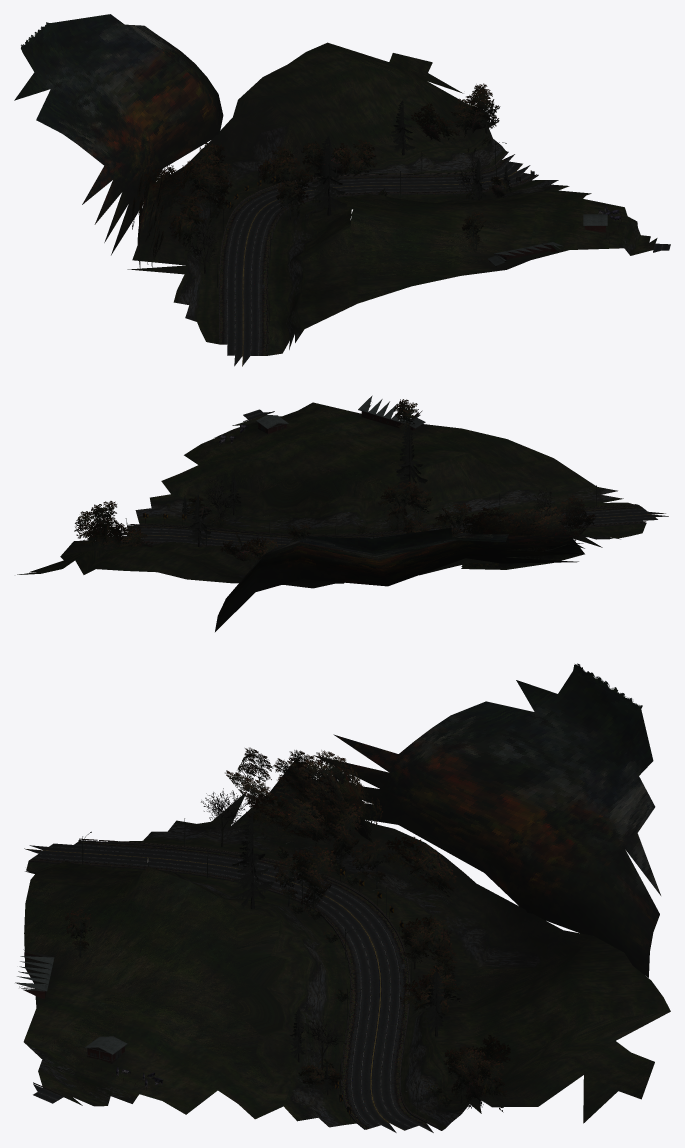
The model's file is cell_-3_-12.gltf.
3 renders of one model, top to bottom at view 1: azimuth 30°, elevation 25°; view 2: azimuth 150°, elevation 25°; view 3: azimuth 270°, elevation 25°, orthographic. The views are drawn at different scales.
Visible parts, largest first — view 1: cell_-3_-12; view 2: cell_-3_-12; view 3: cell_-3_-12.
Part boxes in pixels (x1,y1,x2,y2): cell_-3_-12: [14, 14, 670, 366]; cell_-3_-12: [17, 395, 668, 631]; cell_-3_-12: [15, 663, 670, 1132].
Size of the model in its own units: 287 by 97.4 by 275.
39 materials, 39 textured.
